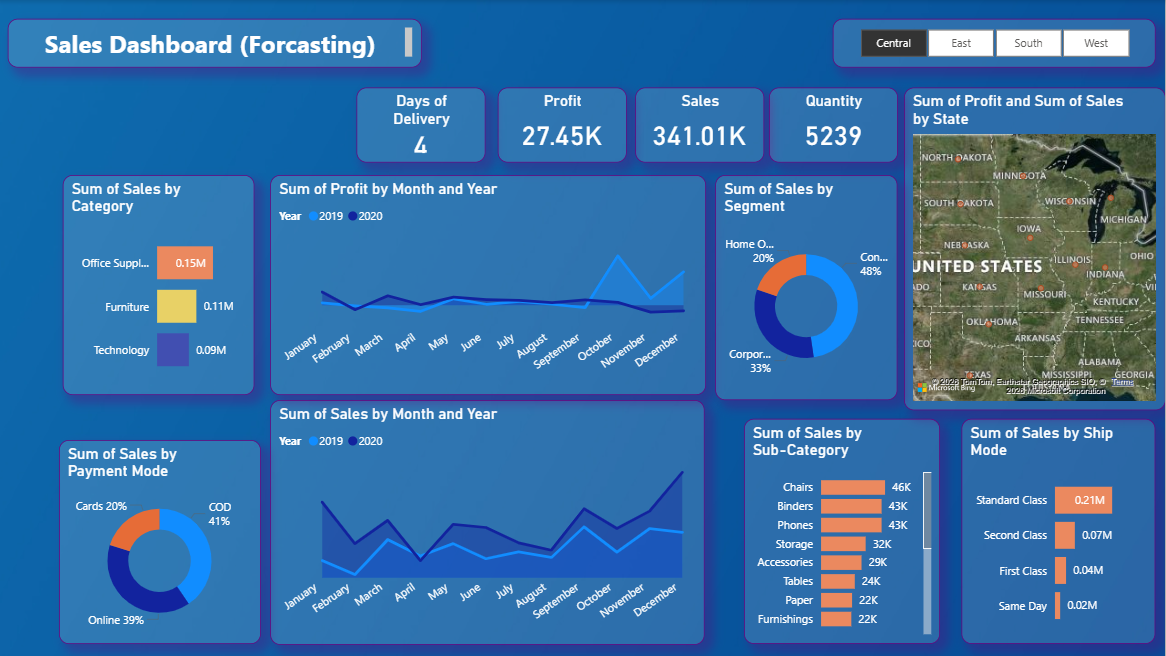

What the dashboard file says about the page in this screenshot:
{"tool":"powerbi","page":{"name":"Page 1","canvas":[1280,720],"ordinal":0},"visuals":[{"type":"clusteredBarChart","fields":{"Category":["SuperStore_Sales_Dataset.Category"],"Y":["Sum(SuperStore_Sales_Dataset.Sales)"]},"box":[70,191.4,210,241.4],"z":0},{"type":"clusteredBarChart","fields":{"Category":["SuperStore_Sales_Dataset.Sub-Category"],"Y":["Sum(SuperStore_Sales_Dataset.Sales)"]},"box":[817.8,459.7,215.4,247],"z":1000},{"type":"clusteredBarChart","fields":{"Category":["SuperStore_Sales_Dataset.Ship Mode"],"Y":["Sum(SuperStore_Sales_Dataset.Sales)"]},"box":[1056.6,459.7,212.7,247],"z":2000},{"type":"areaChart","fields":{"Y":["Sum(SuperStore_Sales_Dataset.Sales)"],"Category":["SuperStore_Sales_Dataset.Order Date.Variation.Date Hierarchy.Month","SuperStore_Sales_Dataset.Order Date.Variation.Date Hierarchy.Day"],"Series":["SuperStore_Sales_Dataset.Order Date.Variation.Date Hierarchy.Year"]},"box":[297.1,438.6,477.1,268.6],"z":3000},{"type":"areaChart","fields":{"Category":["SuperStore_Sales_Dataset.Order Date.Variation.Date Hierarchy.Month","SuperStore_Sales_Dataset.Order Date.Variation.Date Hierarchy.Day"],"Series":["SuperStore_Sales_Dataset.Order Date.Variation.Date Hierarchy.Year"],"Y":["Sum(SuperStore_Sales_Dataset.Profit)"]},"box":[297.1,191.4,478.6,241.4],"z":4000},{"type":"map","fields":{"Category":["SuperStore_Sales_Dataset.State"]},"box":[992.9,95.7,287.1,354.3],"z":5000},{"type":"donutChart","fields":{"Category":["SuperStore_Sales_Dataset.Payment Mode"],"Y":["Sum(SuperStore_Sales_Dataset.Sales)"]},"box":[65.7,482.9,221.4,224.3],"z":6000},{"type":"donutChart","fields":{"Category":["SuperStore_Sales_Dataset.Segment"],"Y":["Sum(SuperStore_Sales_Dataset.Sales)"]},"box":[786.3,192.1,200.3,247],"z":7000},{"type":"slicer","fields":{"Values":["SuperStore_Sales_Dataset.Region"]},"box":[915.3,20.6,354,53.5],"z":8000},{"type":"card","title":"Sales","fields":{"Values":["Sum(SuperStore_Sales_Dataset.Sales)"]},"box":[698.5,96.1,141.3,82.3],"z":9000},{"type":"card","title":"Quantity","fields":{"Values":["Sum(SuperStore_Sales_Dataset.Quantity)"]},"box":[845.3,96.1,141.3,82.3],"z":10000},{"type":"card","title":"Profit","fields":{"Values":["Sum(SuperStore_Sales_Dataset.Profit)"]},"box":[547.5,96.1,141.3,82.3],"z":11000},{"type":"card","title":"Days of Delivery","fields":{"Values":["Avg(SuperStore_Sales_Dataset.avgDelivery)"]},"box":[392.5,96.1,141.3,82.3],"z":12000},{"type":"textbox","box":[9.6,20.6,454.2,53.5],"z":14000}]}

Visuals, with their boxes in screenshot pixels (x1, y1, x2, y2), scaled from the page's 1280x720 canvas onto the 1166x656 screenshot:
clusteredBarChart - SuperStore_Sales_Dataset.Category x Sum(SuperStore_Sales_Dataset.Sales): 64,174,255,394
clusteredBarChart - SuperStore_Sales_Dataset.Sub-Category x Sum(SuperStore_Sales_Dataset.Sales): 745,419,941,644
clusteredBarChart - SuperStore_Sales_Dataset.Ship Mode x Sum(SuperStore_Sales_Dataset.Sales): 962,419,1156,644
areaChart - Sum(SuperStore_Sales_Dataset.Sales) x SuperStore_Sales_Dataset.Order Date.Variation.Date Hierarchy.Month: 271,400,705,644
areaChart - SuperStore_Sales_Dataset.Order Date.Variation.Date Hierarchy.Month x SuperStore_Sales_Dataset.Order Date.Variation.Date Hierarchy.Day: 271,174,707,394
map - SuperStore_Sales_Dataset.State: 904,87,1165,410
donutChart - SuperStore_Sales_Dataset.Payment Mode x Sum(SuperStore_Sales_Dataset.Sales): 60,440,262,644
donutChart - SuperStore_Sales_Dataset.Segment x Sum(SuperStore_Sales_Dataset.Sales): 716,175,899,400
slicer - SuperStore_Sales_Dataset.Region: 834,19,1156,68
"Sales" card: 636,88,765,163
"Quantity" card: 770,88,899,163
"Profit" card: 499,88,627,163
"Days of Delivery" card: 358,88,486,163
textbox: 9,19,422,68
